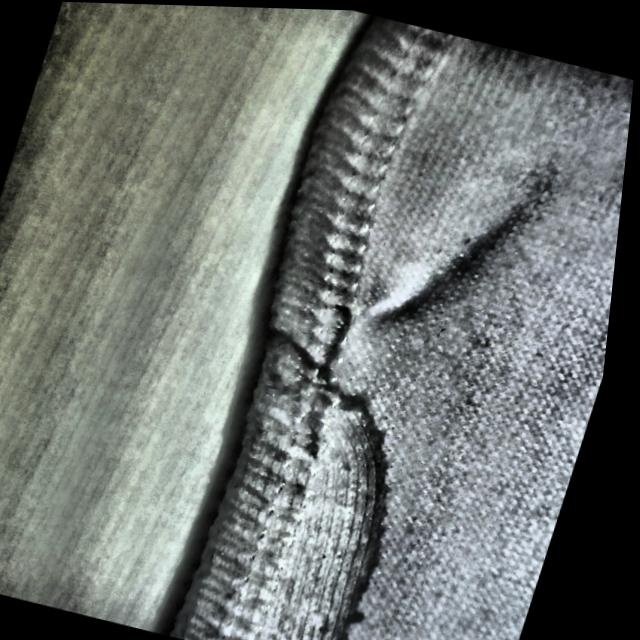seam: (152, 355, 501, 640)
